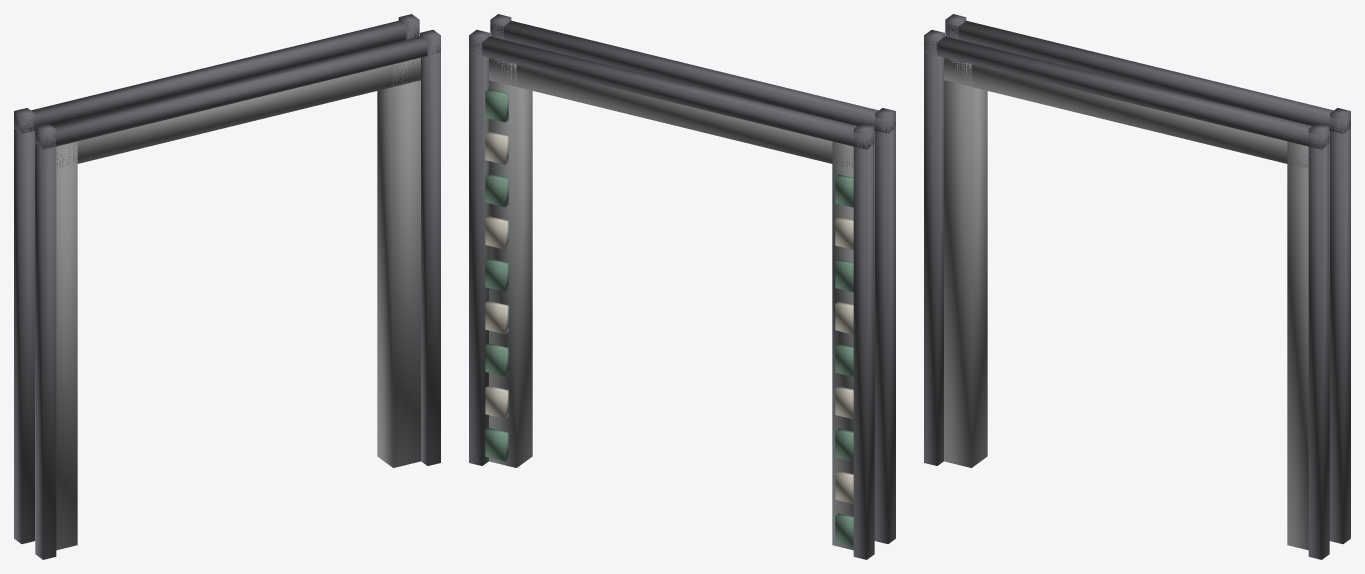
Rendered from doorway_tile_return_w182_h210_d16.glb.
3 views of the same model, side by side, from view 1: azimuth 30°, elevation 25°; view 2: azimuth 150°, elevation 25°; view 3: azimuth 330°, elevation 25° (orthographic).
Parts seen in each view (by area): view 1: world; view 2: world; view 3: world.
Part boxes in pixels (bbox=[...]): world: bbox=[14, 14, 440, 559]; world: bbox=[469, 14, 895, 559]; world: bbox=[924, 14, 1350, 559].
Size of the model in its own units: 2.29 by 2.36 by 0.2906.
